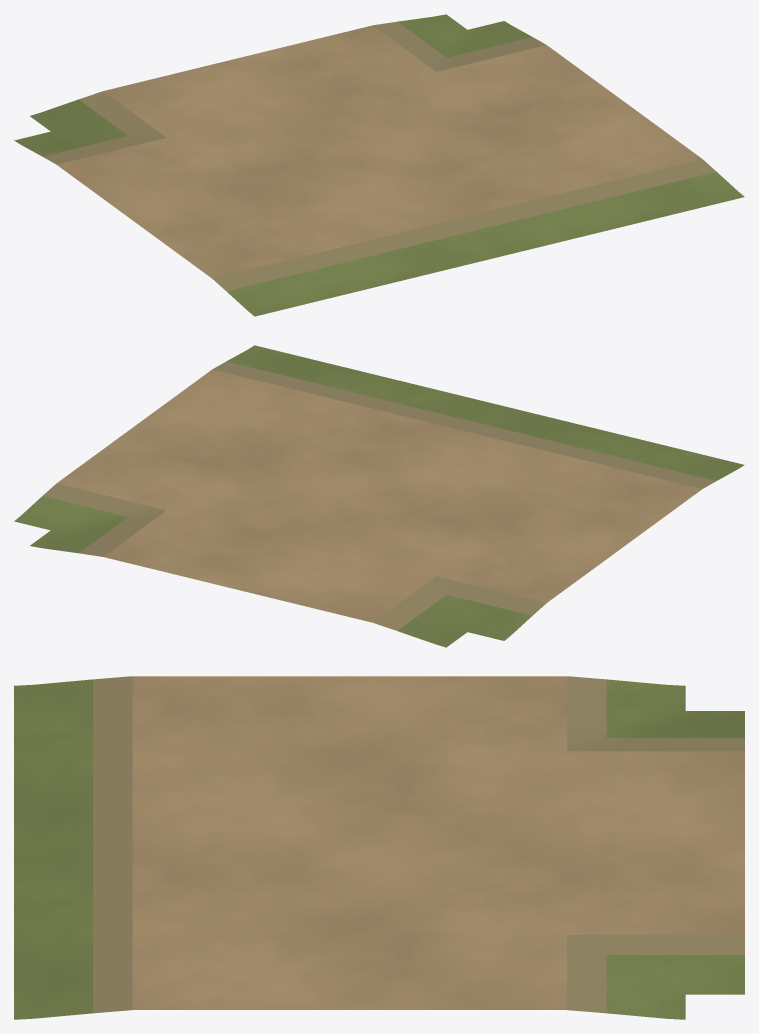
File: path-junction-2m.glb
3 renders of one model, top to bottom at view 1: azimuth 30°, elevation 25°; view 2: azimuth 150°, elevation 25°; view 3: azimuth 270°, elevation 25°, orthographic. The views are drawn at different scales.
Visible parts, largest first — view 1: path-junction-2m / N12 / ochre walking earth, path-junction-2m / N13 / meadow soil, path-junction-2m / N19 / dusty path edge; view 2: path-junction-2m / N12 / ochre walking earth, path-junction-2m / N13 / meadow soil, path-junction-2m / N19 / dusty path edge; view 3: path-junction-2m / N12 / ochre walking earth, path-junction-2m / N13 / meadow soil, path-junction-2m / N19 / dusty path edge.
Part boxes in pixels (x1=…): path-junction-2m / N12 / ochre walking earth: x1=57, y1=25, x2=701, y2=278; path-junction-2m / N13 / meadow soil: x1=14, y1=14, x2=744, y2=316; path-junction-2m / N19 / dusty path edge: x1=43, y1=21, x2=715, y2=291; path-junction-2m / N12 / ochre walking earth: x1=57, y1=369, x2=701, y2=622; path-junction-2m / N13 / meadow soil: x1=14, y1=345, x2=744, y2=647; path-junction-2m / N19 / dusty path edge: x1=42, y1=361, x2=716, y2=630; path-junction-2m / N12 / ochre walking earth: x1=132, y1=676, x2=744, y2=1009; path-junction-2m / N13 / meadow soil: x1=14, y1=679, x2=744, y2=1019; path-junction-2m / N19 / dusty path edge: x1=93, y1=676, x2=744, y2=1013.
Bounding box in the file's own units: 2 × 0.027 × 1.85.
3 materials, 2 textured.
